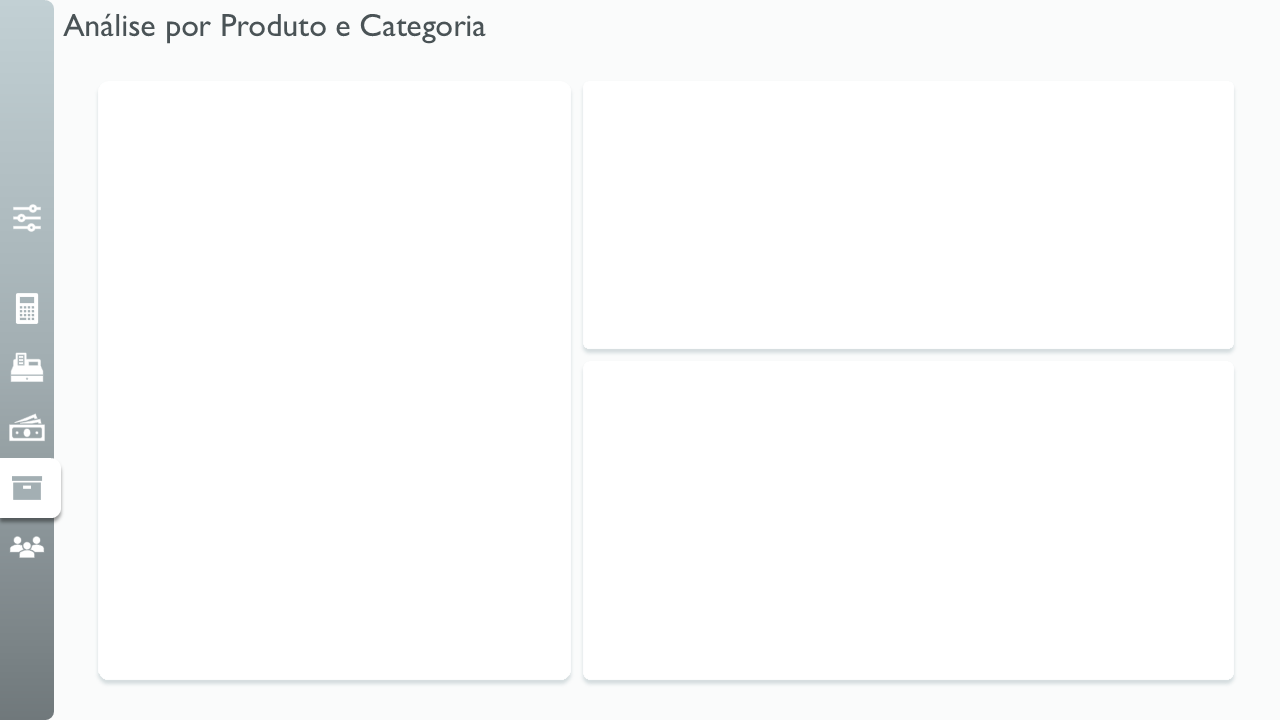

What the dashboard file says about the page in this screenshot:
{"tool":"powerbi","page":{"name":"Produtos","canvas":[1920,1080],"ordinal":3},"visuals":[{"type":"actionButton","box":[0,286,88,90],"z":1000},{"type":"pageNavigator","box":[0,408,88,440],"z":1501}]}

Visuals, with their boxes on the page's 1920x1080 design canvas (x1, y1, x2, y2). These are canvas units, not pixel positions in the 1280x720 screenshot, which may show the page scaled, cropped or inside an application window:
actionButton: <bbox>0, 286, 88, 376</bbox>
pageNavigator: <bbox>0, 408, 88, 848</bbox>
